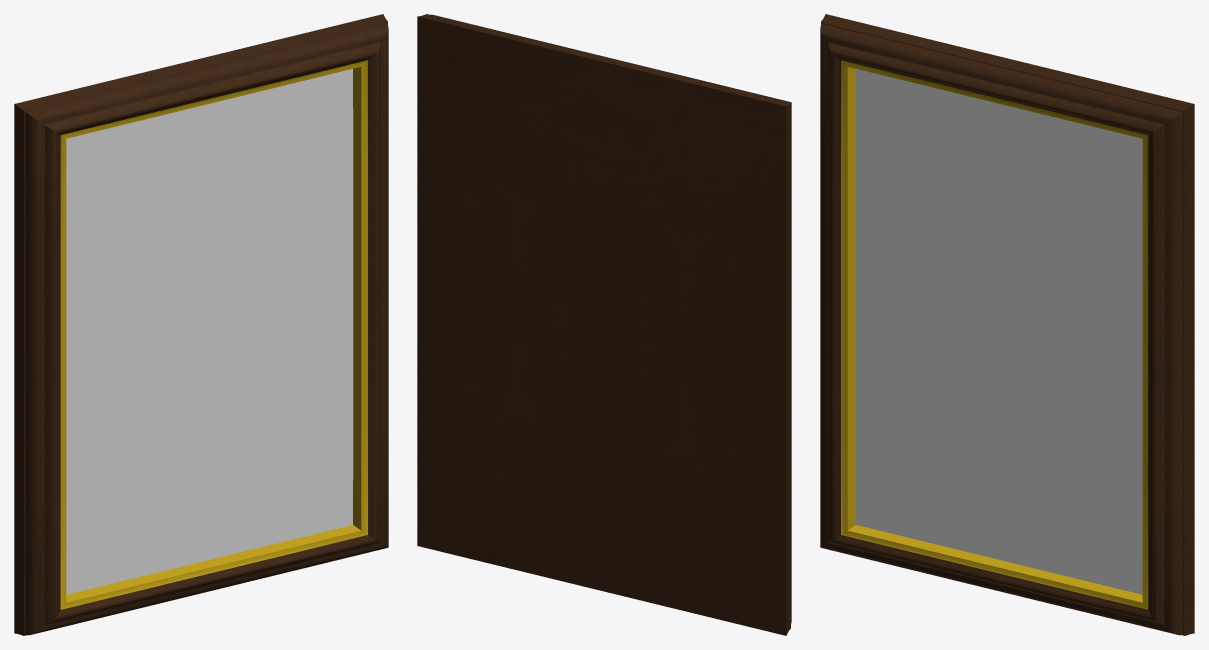
File: picture_frame.fbx
3 renders of one model, left to right at view 1: azimuth 30°, elevation 25°; view 2: azimuth 150°, elevation 25°; view 3: azimuth 330°, elevation 25°, orthographic.
Visible parts, largest first — view 1: 立方体; view 2: 立方体; view 3: 立方体.
Part boxes in pixels (x1,y1,x2,y2): 立方体: (14,14,388,635); 立方体: (417,14,791,635); 立方体: (820,14,1194,635).
Size of the model in its own units: 133 by 183 by 10.84.
Materials: 3 (1 with a texture image).
